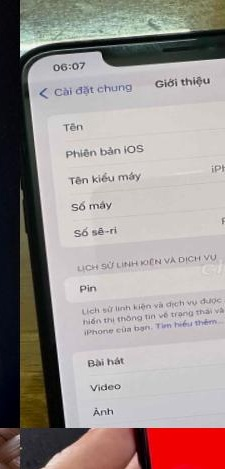scratch: (97, 23, 225, 65)
